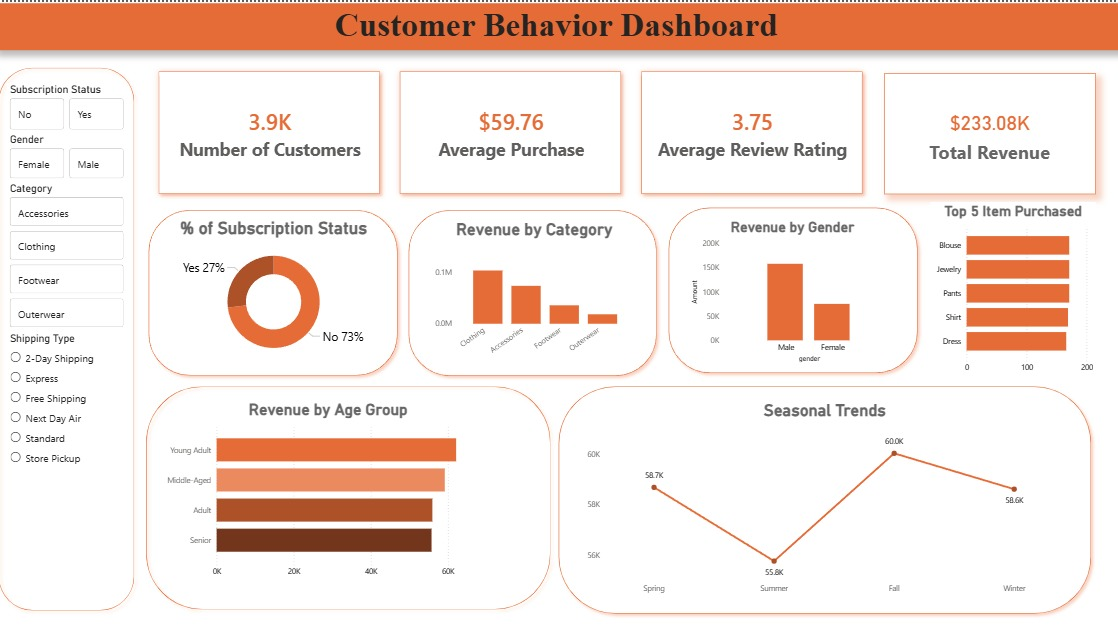

The dashboard page shown, as its layout file describes it:
{"tool":"powerbi","page":{"name":"Page 1","canvas":[1800,1000],"ordinal":0},"visuals":[{"type":"cardVisual","fields":{"Data":["customer_behavior.Number of Customers","customer_behavior.Average Purchase Amount","customer_behavior.Average Review Rating"]},"box":[230,76.7,1196.7,266.7],"z":0},{"type":"textbox","box":[1.6,1.6,1798.7,75.2],"z":1000},{"type":"shape","box":[239.5,323.1,416.4,282.7],"z":2000},{"type":"donutChart","title":"% of Subscription Status","fields":{"Category":["customer_behavior.subscription_status"],"Y":["CountNonNull(customer_behavior.customer_id)"]},"box":[282.7,346.8,334.2,236.8],"z":3000},{"type":"shape","box":[656.7,323.3,415,283.3],"z":4000},{"type":"shape","box":[1072.4,320.3,416.4,282.7],"z":5000},{"type":"clusteredColumnChart","title":"Revenue by Category","fields":{"Category":["customer_behavior.category"],"Y":["Sum(customer_behavior.purchase_amount_usd)"]},"box":[701.7,348.3,328.3,235],"z":6000},{"type":"clusteredColumnChart","title":"Revenue by Gender","fields":{"Category":["customer_behavior.gender"],"Y":["Sum(customer_behavior.purchase_amount_usd)"]},"box":[1112.7,345.4,334.2,235.4],"z":7000},{"type":"shape","box":[0,95,235,886.7],"z":8000},{"type":"advancedSlicerVisual","title":"Subscription Status","fields":{"Values":["customer_behavior.subscription_status"]},"box":[22.3,130.9,192.2,79.4],"z":9000},{"type":"advancedSlicerVisual","title":"Gender","fields":{"Values":["customer_behavior.gender"]},"box":[22.3,210.3,192.2,78],"z":10000},{"type":"advancedSlicerVisual","title":"Category","fields":{"Values":["customer_behavior.category"]},"box":[22.3,288.3,192.2,239.5],"z":11000},{"type":"listSlicer","title":"Shipping Type","fields":{"Values":["customer_behavior.shipping_type"]},"box":[22.9,528.9,191.1,288.9],"z":12000},{"type":"clusteredBarChart","title":"Revenue by Age Group","fields":{"Y":["Sum(customer_behavior.purchase_amount_usd)"],"Category":["customer_behavior.age_group"]},"box":[268.3,638.3,536.7,291.7],"z":13000},{"type":"shape","box":[895,606.7,870,381.7],"z":14000},{"type":"shape","box":[236.7,606.7,665,375],"z":15000},{"type":"card","fields":{"Values":["Sum(customer_behavior.purchase_amount_usd)"]},"box":[1426.7,113.3,338.3,193.3],"z":16000},{"type":"lineChart","title":"Seasonal Trends","fields":{"Category":["customer_behavior.season"],"Y":["Sum(customer_behavior.purchase_amount_usd)"]},"box":[945,638.3,770,318.3],"z":18000},{"type":"clusteredBarChart","title":"Top 5 Item Purchased","fields":{"Category":["customer_behavior.item_purchased"],"Y":["CountNonNull(customer_behavior.customer_id)"]},"box":[1500,320,265,283.3],"z":19000}]}

Visuals, with their boxes in screenshot pixels (x1, y1, x2, y2), scaled from the page's 1800x1000 canvas onto the 1118x626 screenshot:
cardVisual - customer_behavior.Number of Customers x customer_behavior.Average Purchase Amount: 143 48 886 215
textbox: 1 1 1117 48
shape: 149 202 407 379
"% of Subscription Status" donutChart: 176 217 383 365
shape: 408 202 666 380
shape: 666 201 925 377
"Revenue by Category" clusteredColumnChart: 436 218 640 365
"Revenue by Gender" clusteredColumnChart: 691 216 899 364
shape: 0 59 146 615
"Subscription Status" advancedSlicerVisual: 14 82 133 132
"Gender" advancedSlicerVisual: 14 132 133 180
"Category" advancedSlicerVisual: 14 180 133 330
"Shipping Type" listSlicer: 14 331 133 512
"Revenue by Age Group" clusteredBarChart: 167 400 500 582
shape: 556 380 1096 619
shape: 147 380 560 615
card - Sum(customer_behavior.purchase_amount_usd): 886 71 1096 192
"Seasonal Trends" lineChart: 587 400 1065 599
"Top 5 Item Purchased" clusteredBarChart: 932 200 1096 378
